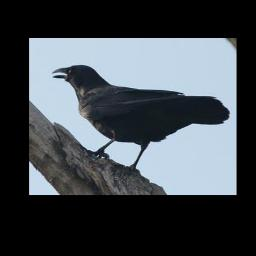Crow: (49, 63, 231, 174)
